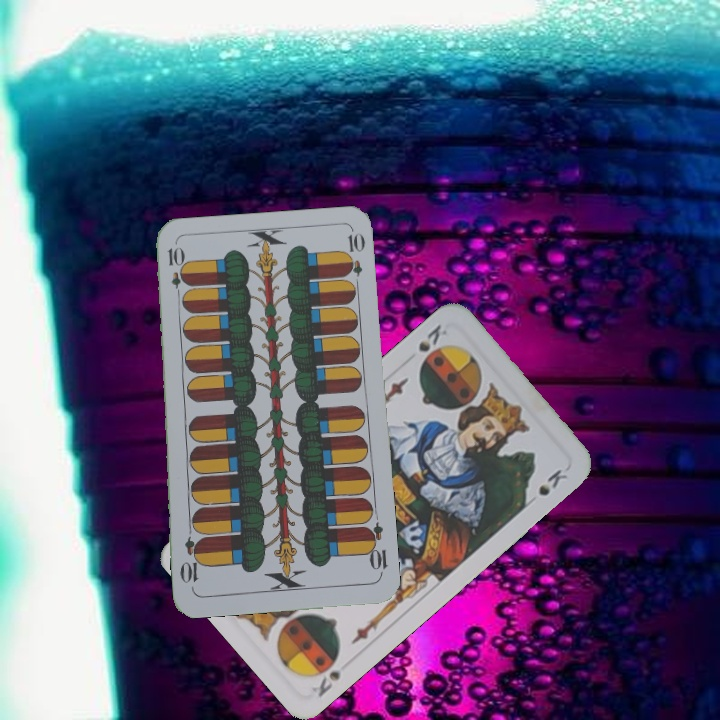E10: (361, 519, 390, 578), (164, 243, 185, 302)
SK: (307, 650, 355, 700), (414, 320, 450, 355)
